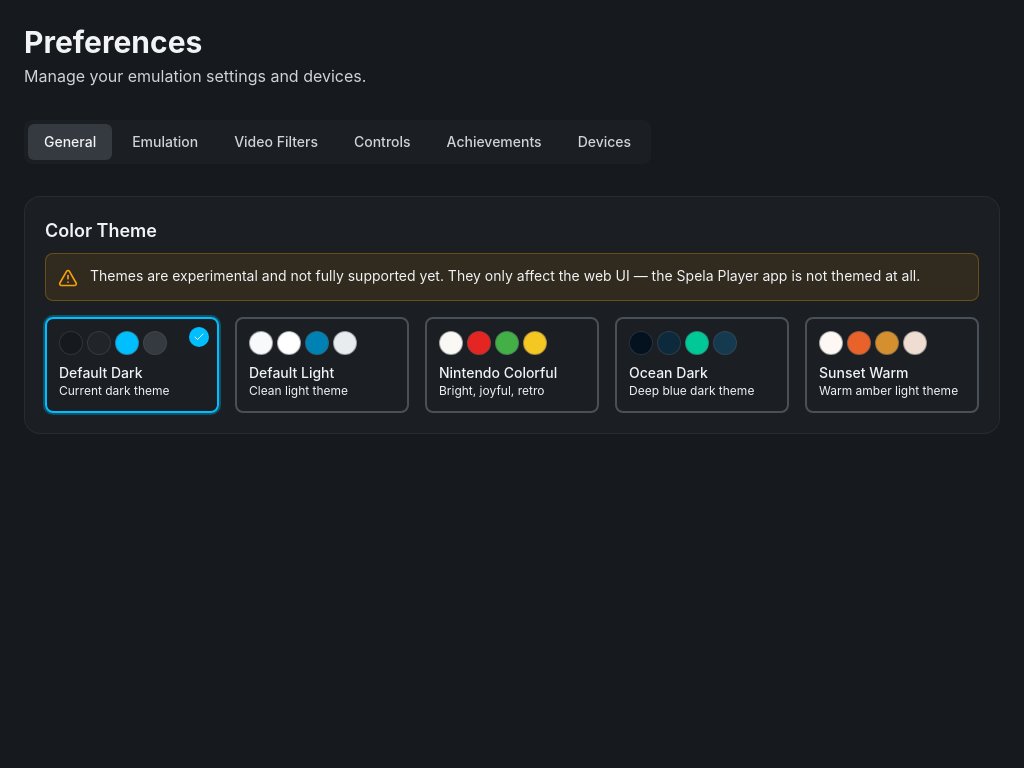
Scenario: PreferencesPage › cancels device deletion
The image size is (1024, 768).
Step 1. Click the tab "Devices" → (604, 142), box [562,124,647,160]
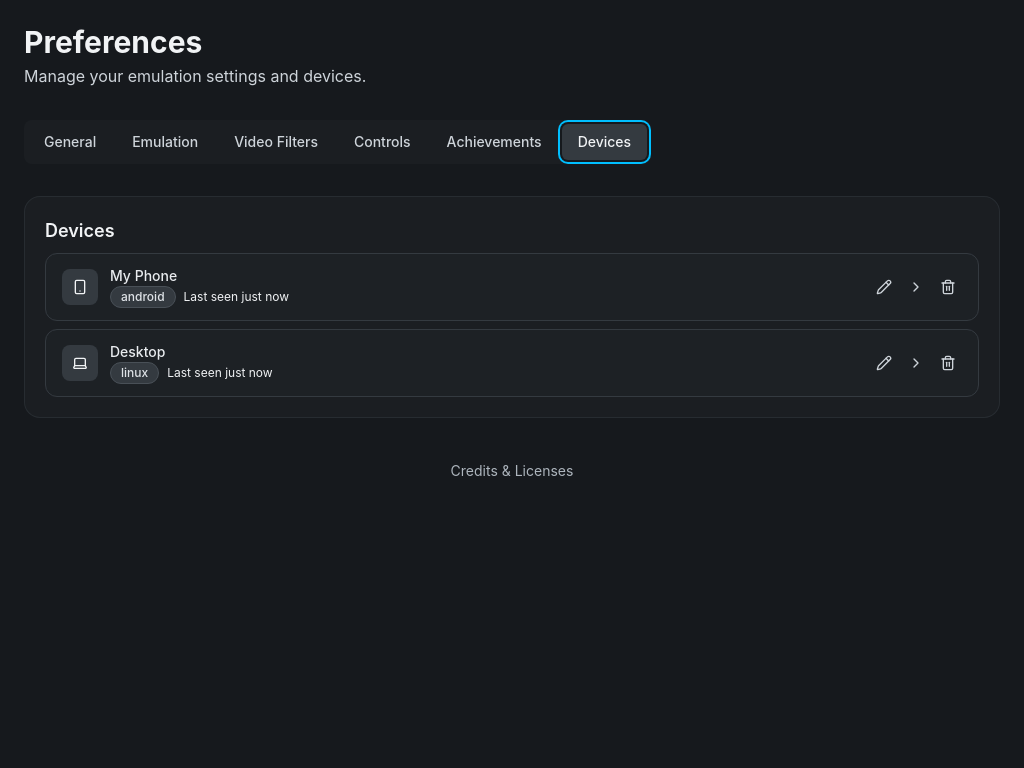
Step 2. Click the button titled "Delete device" in the row of "My Phone" → (948, 287), box [934,273,962,301]
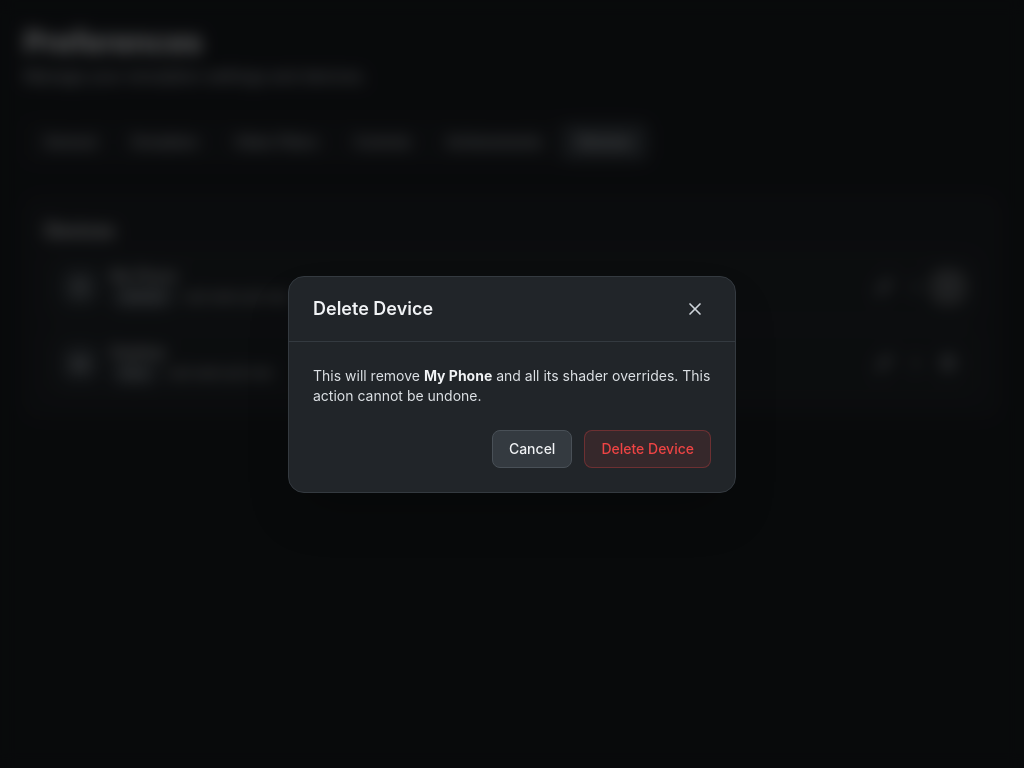
Step 3. Click the button "Cancel" → (532, 448), box [492,430,572,468]
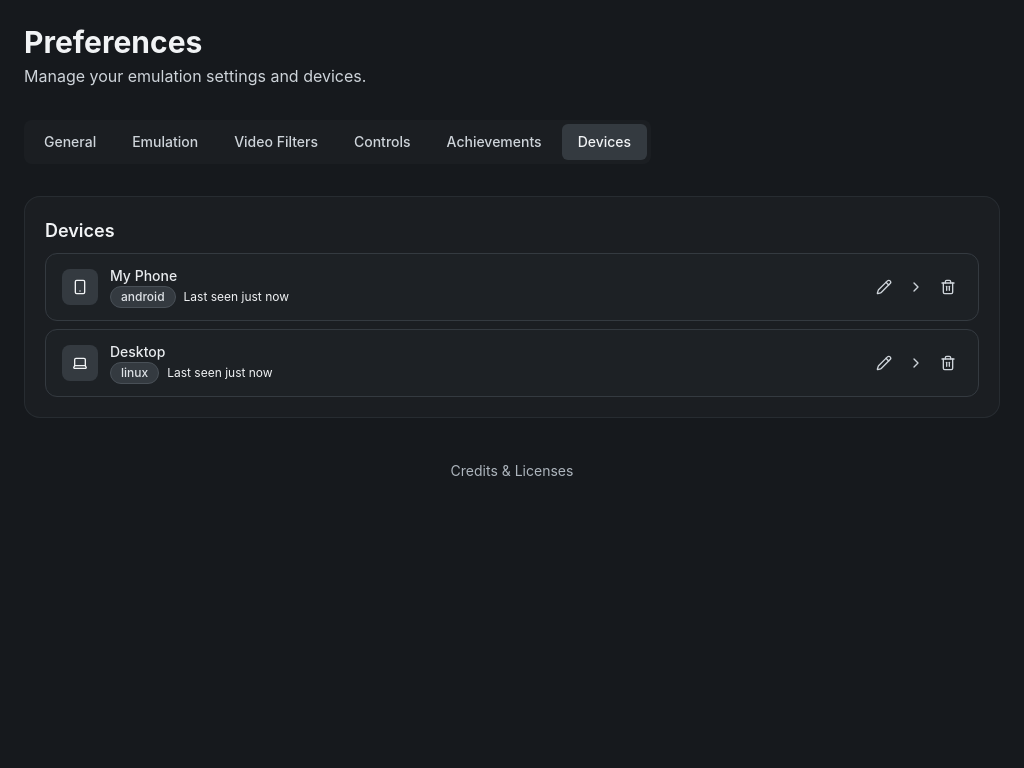
Check: the heading "Delete Device" is gone
